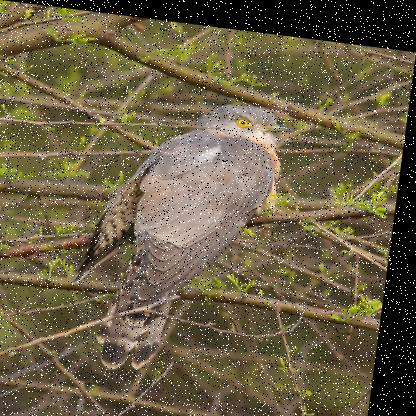Burung: (73, 83, 295, 379)
